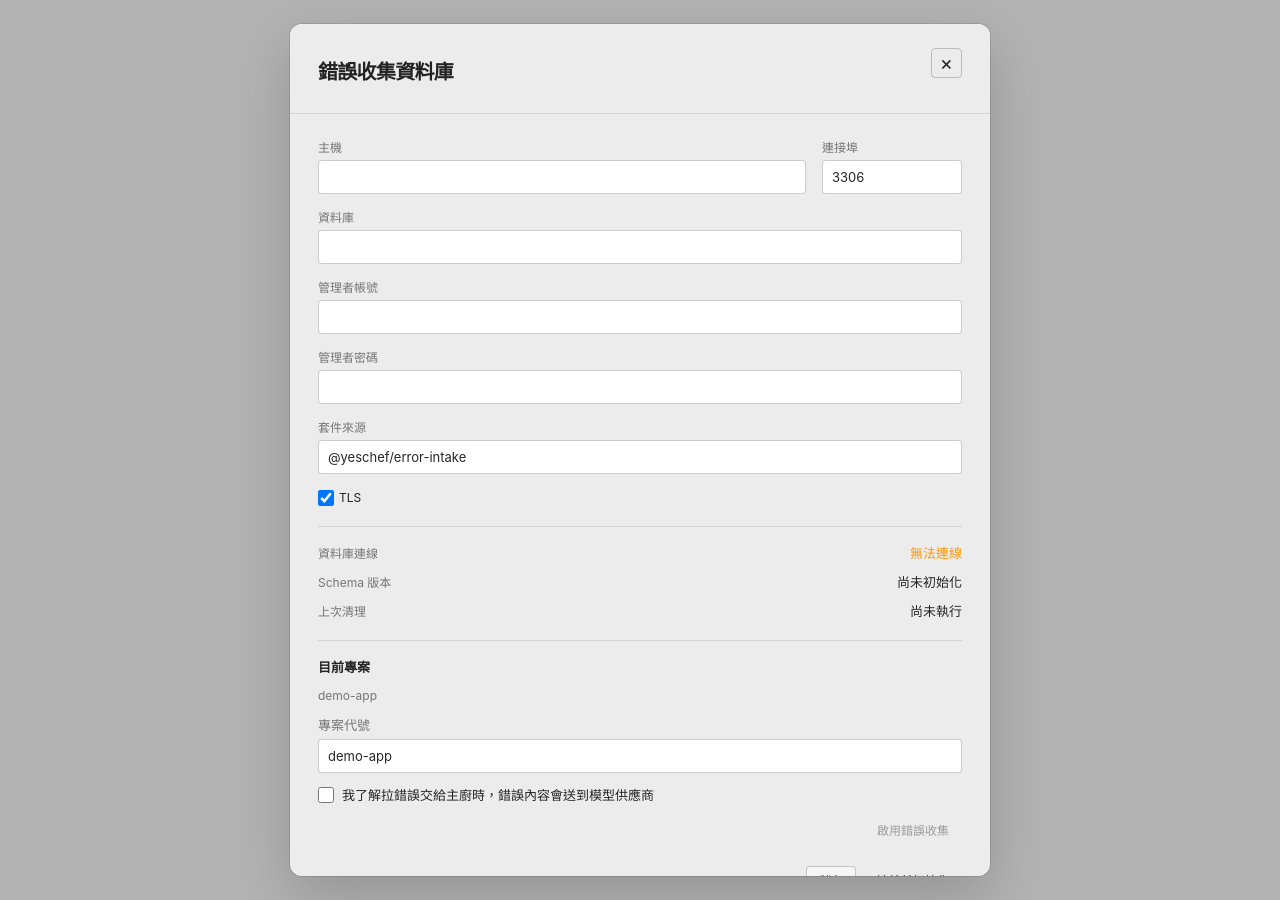
資料庫狀態晚到觸發重讀時，已勾選的確認仍保留
Click the checkbox labelled "我了解拉錯誤交給主廚時，錯誤內容會送到模型供應商" at x=326, y=795, box x1=318 y1=787 x2=334 y2=803
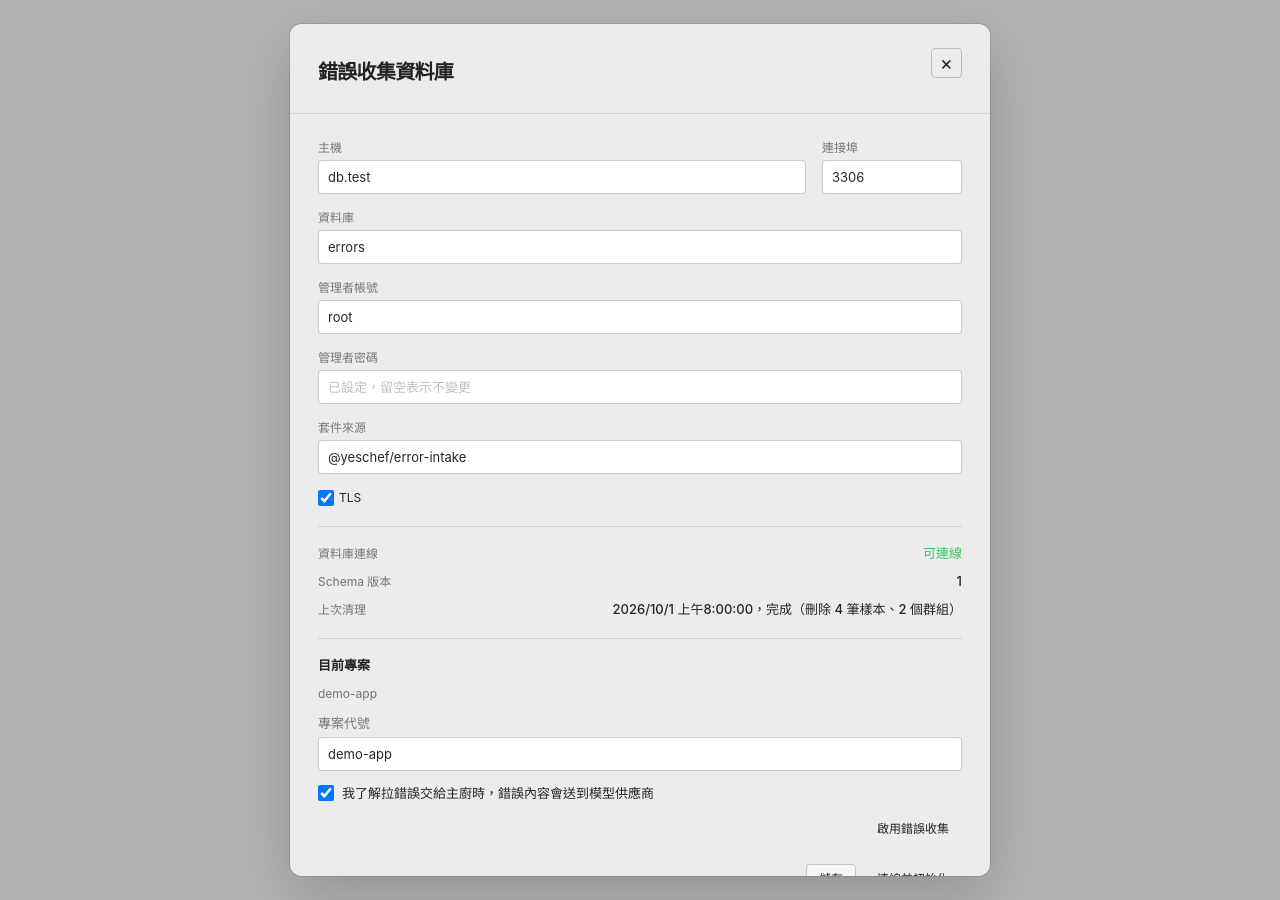
Check: the checkbox labelled "我了解拉錯誤交給主廚時，錯誤內容會送到模型供應商" is checked, box x1=318 y1=785 x2=334 y2=801
Check: the button "啟用錯誤收集" is enabled, box x1=864 y1=814 x2=962 y2=844
